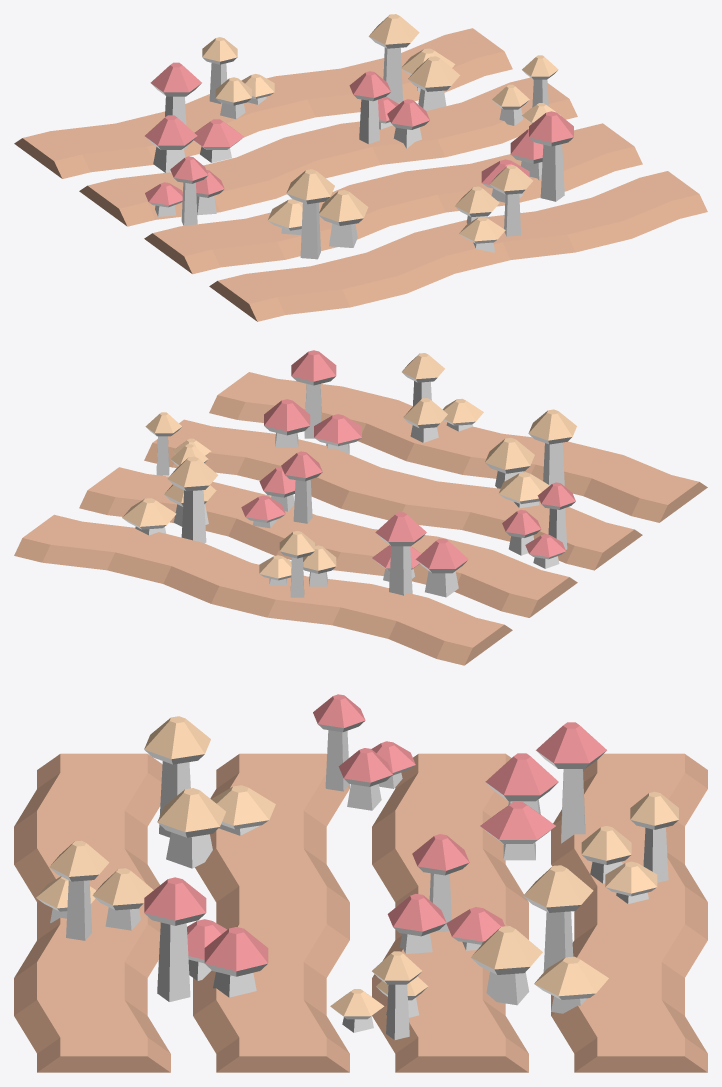
The model's file is bld_cave_garden_2x2.glb.
3 views of the same model, one above another, from view 1: azimuth 30°, elevation 25°; view 2: azimuth 150°, elevation 25°; view 3: azimuth 270°, elevation 25° (orthographic). The views are drawn at different scales.
Parts seen in each view (by area): view 1: crops_dirtDoubleRow3, crops_dirtDoubleRow4, crops_dirtDoubleRow, crops_dirtDoubleRow2, mushroom_tanGroup2, mushroom_redGroup, mushroom_tanGroup, mushroom_redGroup2, mushroom_tanGroup4, mushroom_redGroup3, mushroom_redGroup4, mushroom_tanGroup3 (+1 smaller); view 2: crops_dirtDoubleRow, crops_dirtDoubleRow3, crops_dirtDoubleRow2, crops_dirtDoubleRow4, mushroom_redGroup2, mushroom_tanGroup2, mushroom_redGroup, mushroom_tanGroup, mushroom_redGroup3, mushroom_redGroup4, mushroom_tanGroup4, mushroom_tanGroup3 (+1 smaller); view 3: crops_dirtDoubleRow4, crops_dirtDoubleRow2, crops_dirtDoubleRow3, crops_dirtDoubleRow, mushroom_tanGroup, mushroom_redGroup2, mushroom_tanGroup2, mushroom_redGroup, mushroom_redGroup3, mushroom_tanGroup4, mushroom_tanGroup3, mushroom_redGroup4 (+1 smaller).
Boxes of the visible parts, left/top/right/bottom form: crops_dirtDoubleRow3: left=144, top=178, right=482, bottom=321; crops_dirtDoubleRow4: left=378, top=123, right=707, bottom=266; crops_dirtDoubleRow: left=14, top=94, right=352, bottom=226; crops_dirtDoubleRow2: left=266, top=28, right=577, bottom=171; mushroom_tanGroup2: left=267, top=169, right=368, bottom=259; mushroom_redGroup: left=145, top=62, right=244, bottom=172; mushroom_tanGroup: left=368, top=14, right=460, bottom=110; mushroom_redGroup2: left=481, top=111, right=573, bottom=202; mushroom_tanGroup4: left=455, top=165, right=532, bottom=252; mushroom_redGroup3: left=349, top=71, right=429, bottom=148; mushroom_redGroup4: left=145, top=156, right=224, bottom=225; mushroom_tanGroup3: left=202, top=37, right=274, bottom=119; crops_dirtDoubleRow: left=239, top=522, right=577, bottom=665; crops_dirtDoubleRow3: left=369, top=427, right=707, bottom=570; crops_dirtDoubleRow2: left=14, top=467, right=343, bottom=610; crops_dirtDoubleRow4: left=144, top=372, right=473, bottom=515; mushroom_redGroup2: left=264, top=350, right=361, bottom=454; mushroom_tanGroup2: left=485, top=409, right=576, bottom=508; mushroom_redGroup: left=372, top=512, right=468, bottom=597; mushroom_tanGroup: left=122, top=456, right=218, bottom=543; mushroom_redGroup3: left=241, top=451, right=322, bottom=528; mushroom_redGroup4: left=502, top=482, right=575, bottom=568; mushroom_tanGroup4: left=402, top=353, right=483, bottom=442; mushroom_tanGroup3: left=259, top=531, right=336, bottom=597; crops_dirtDoubleRow4: left=14, top=905, right=349, bottom=1072; crops_dirtDoubleRow2: left=372, top=905, right=707, bottom=1072; crops_dirtDoubleRow3: left=14, top=753, right=349, bottom=920; crops_dirtDoubleRow: left=372, top=753, right=707, bottom=920; mushroom_tanGroup: left=471, top=865, right=608, bottom=1013; mushroom_redGroup2: left=144, top=877, right=268, bottom=1001; mushroom_tanGroup2: left=144, top=716, right=275, bottom=868; mushroom_redGroup: left=480, top=722, right=606, bottom=860; mushroom_redGroup3: left=387, top=834, right=504, bottom=954; mushroom_tanGroup4: left=36, top=840, right=153, bottom=940; mushroom_tanGroup3: left=581, top=791, right=678, bottom=903; mushroom_redGroup4: left=313, top=694, right=415, bottom=810.
Bounding box in the file's own units: 2 × 0.3707 × 1.94.
